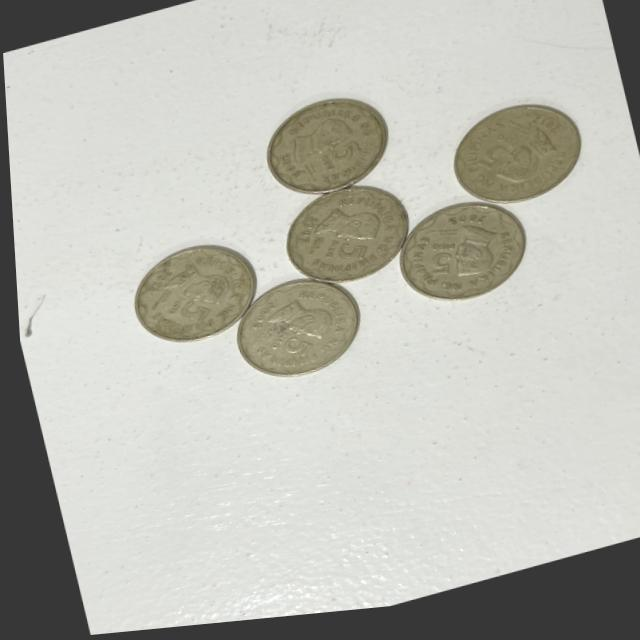5_Old_Front: (155, 283, 214, 335), (461, 132, 522, 180), (300, 140, 365, 185), (410, 239, 461, 288), (313, 234, 370, 276), (269, 326, 316, 369)
